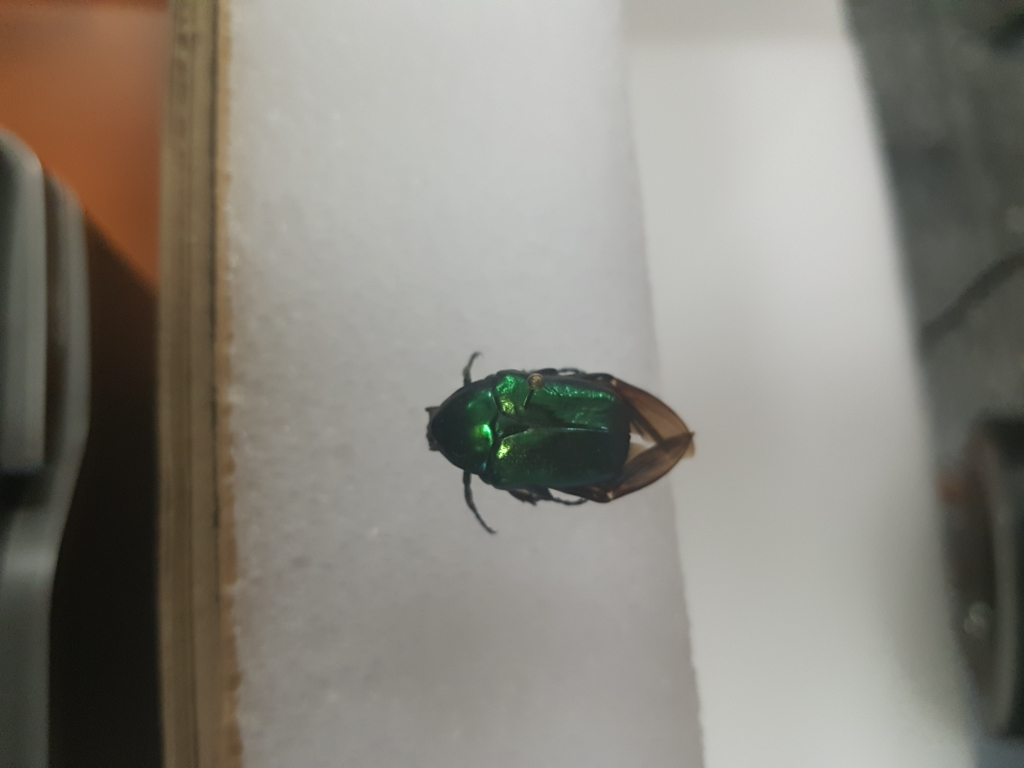Protaetia_angustata_angustata: (412, 347, 636, 541)
